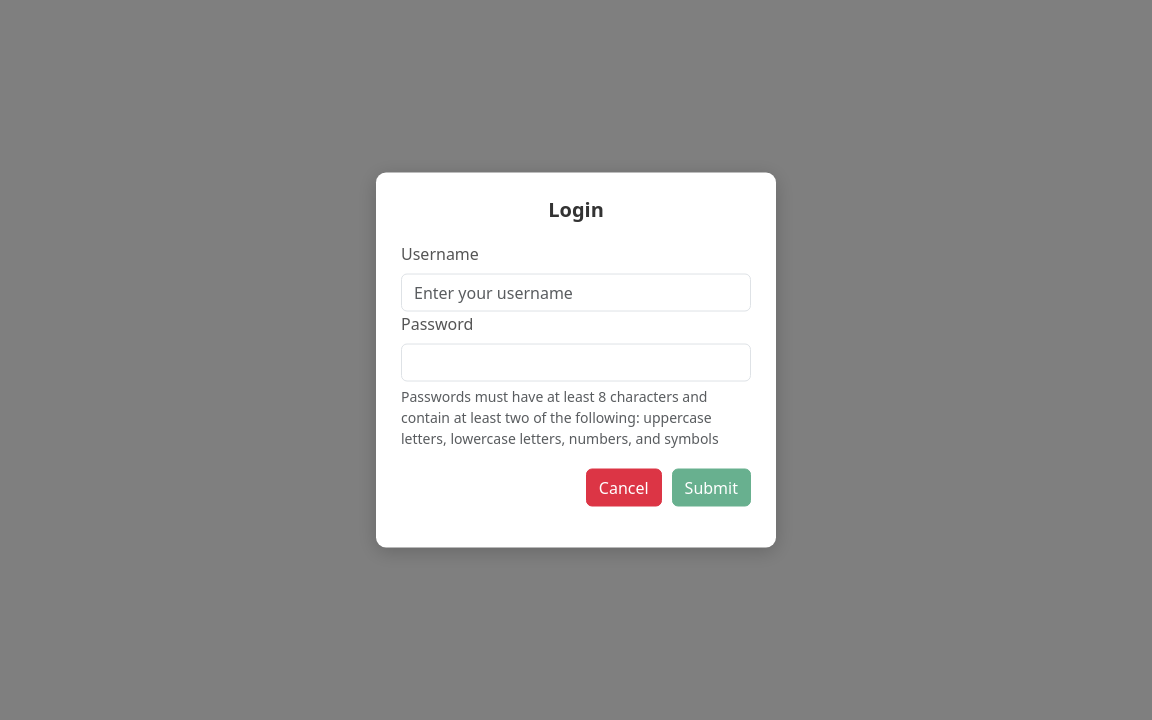
Test: Login Component › enables submit button when username and password are not empty
Type "testuser" into the field labelled "Username" at [576, 292], box [401,274,751,312]
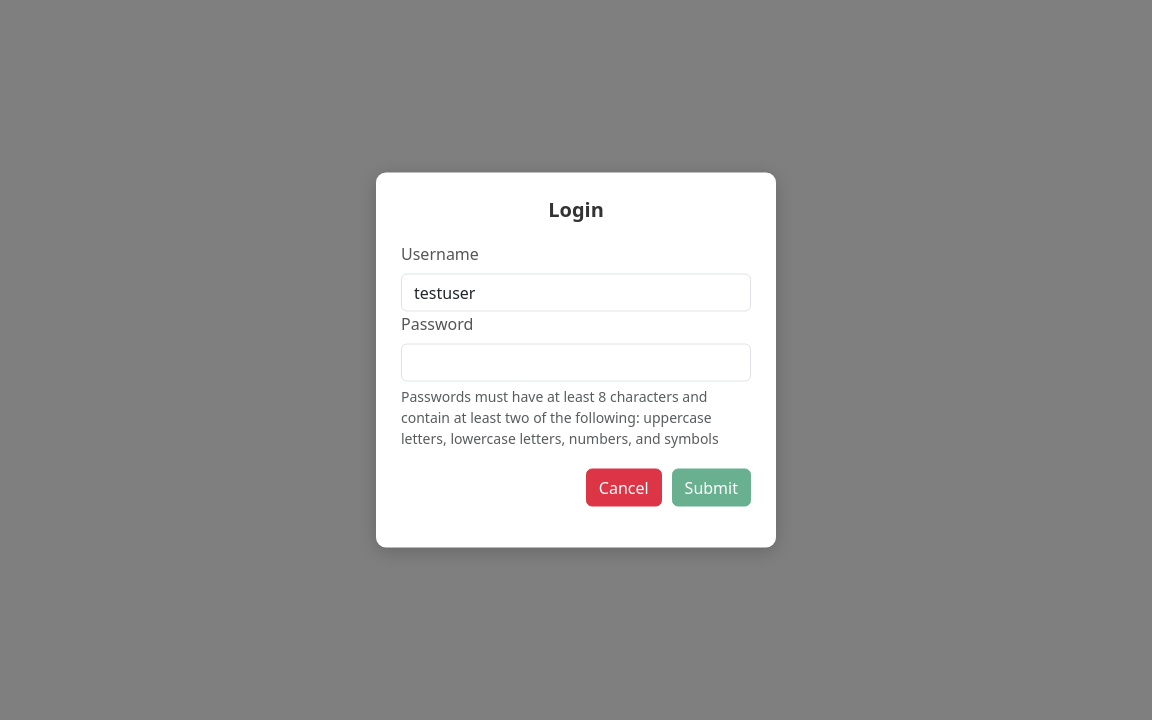
Type "password123" into the password field labelled "Password" at [576, 362], box [401,344,751,382]
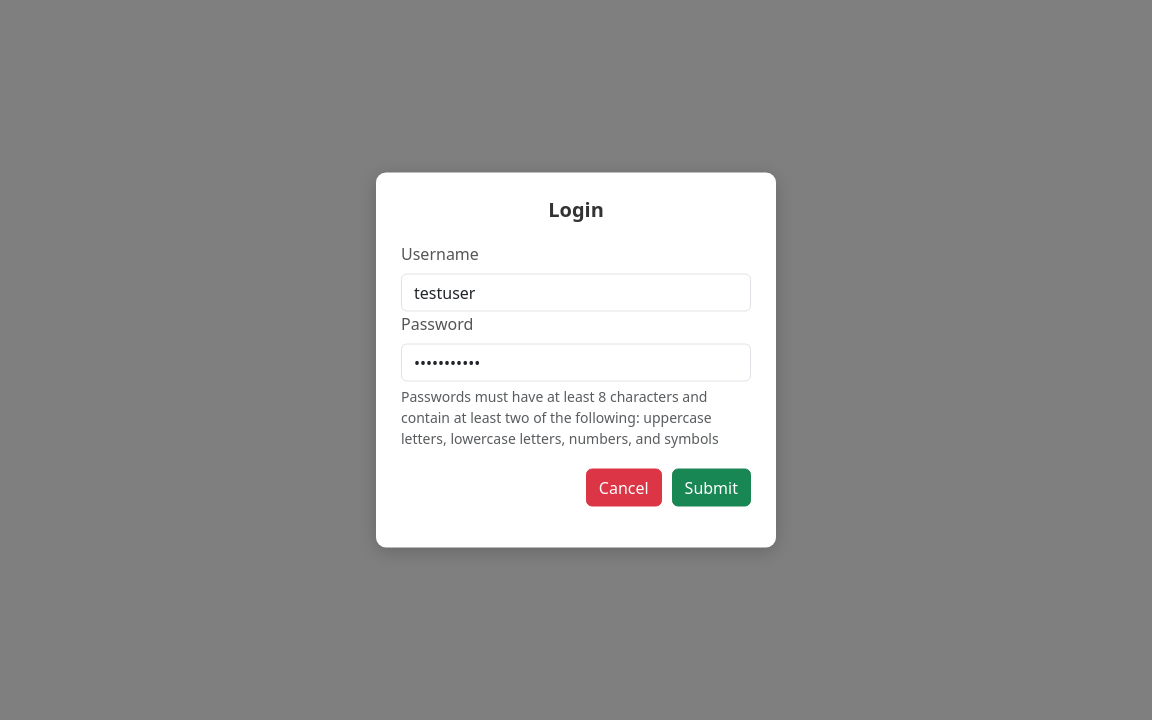
expect the button "Submit" is enabled: met, box [672,468,751,506]
